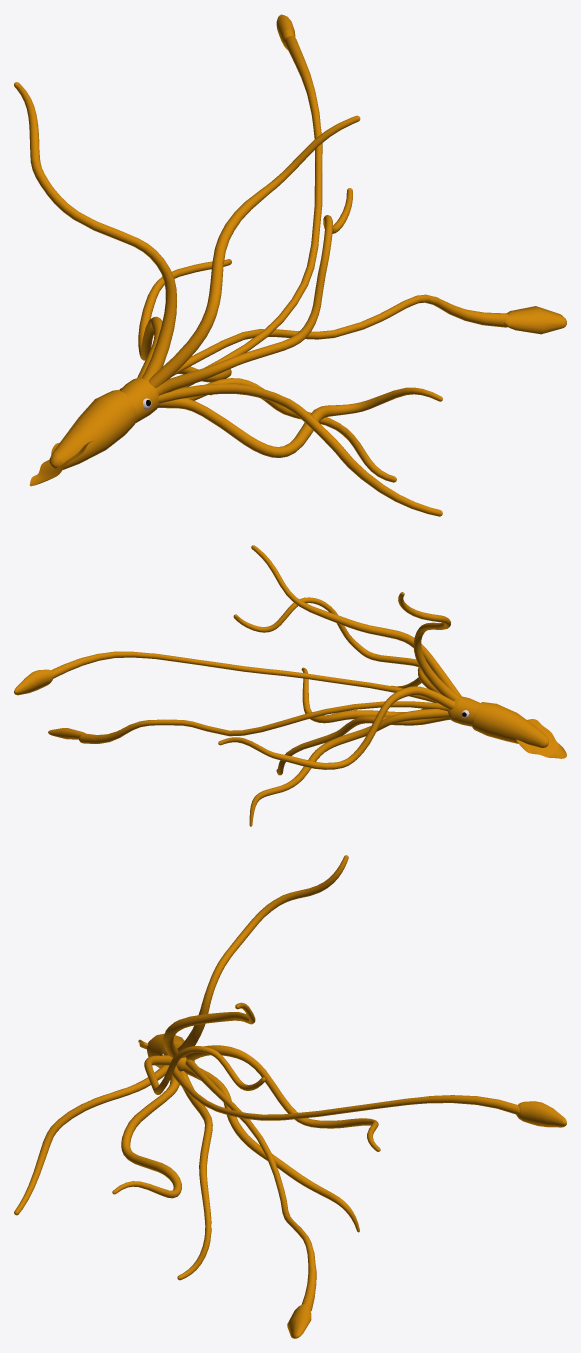
File: giant_squid.gltf
The picture shows the model from 3 angles, top to bottom: view 1: azimuth 30°, elevation 25°; view 2: azimuth 150°, elevation 25°; view 3: azimuth 270°, elevation 25°; orthographic projection. The views are drawn at different scales.
Visible parts, largest first — view 1: node-0; view 2: node-0; view 3: node-0.
Boxes of the visible parts, bbox=[...] form: node-0: bbox=[14, 14, 566, 516]; node-0: bbox=[14, 545, 566, 826]; node-0: bbox=[14, 855, 566, 1338].
Bounding box in the file's own units: 1.54 × 0.9239 × 1.46.
